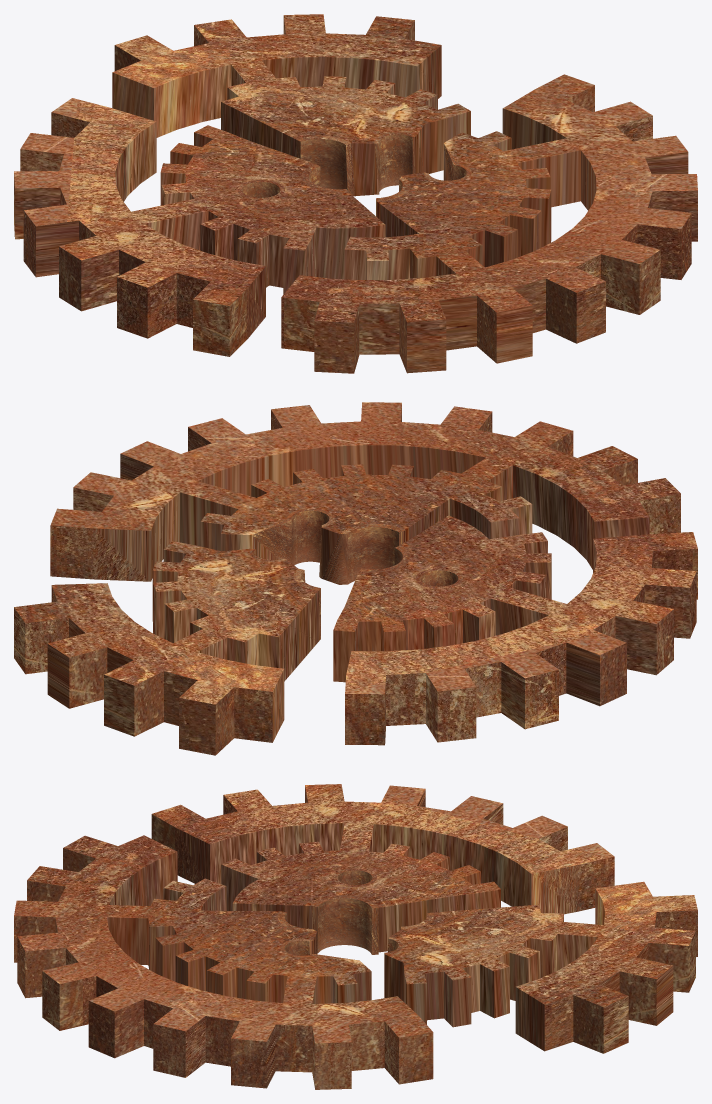
File: 割れた歯車22Ｇ.fbx
3 renders of one model, top to bottom at view 1: azimuth 30°, elevation 25°; view 2: azimuth 150°, elevation 25°; view 3: azimuth 270°, elevation 25°, orthographic. The views are drawn at different scales.
Parts seen in each view (by area): view 1: obj1; view 2: obj1; view 3: obj1.
Part boxes in pixels (box(x1,y1,x2,y2)): obj1: box(14, 14, 697, 373); obj1: box(14, 402, 697, 755); obj1: box(14, 784, 697, 1089).
Size of the model in its own units: 239 by 20.07 by 266.
Materials: 1 (1 with a texture image).
